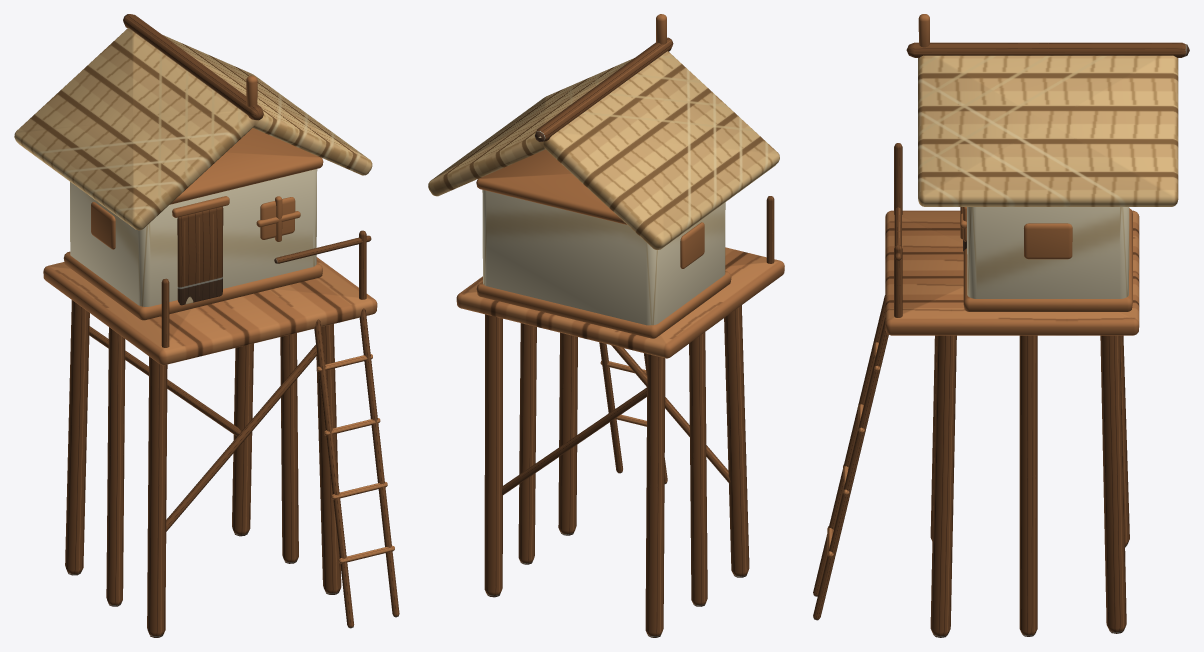
Rendered from stilthouse.glb.
3 views of the same model, side by side, from view 1: azimuth 30°, elevation 25°; view 2: azimuth 150°, elevation 25°; view 3: azimuth 270°, elevation 25° (orthographic). The views are drawn at different scales.
Visible parts, largest first — view 1: house; view 2: house; view 3: house.
Part boxes in pixels (<box>): house: <box>14,14,399,637</box>; house: <box>428,14,784,637</box>; house: <box>813,14,1189,637</box>.
Size of the model in its own units: 1.8 by 3.91 by 2.31.
Materials: 1 (1 with a texture image).
